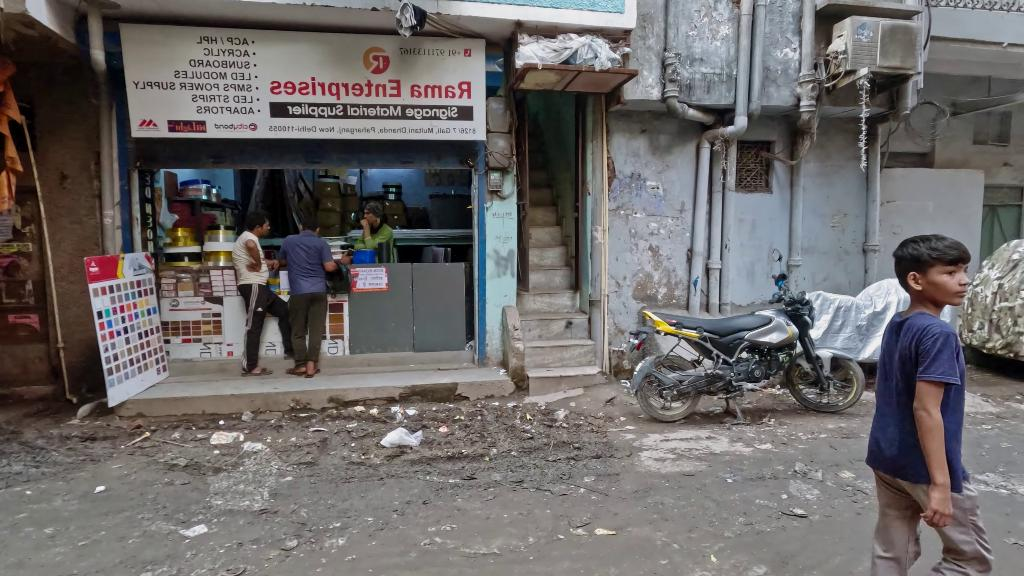garbage: (371, 423, 423, 457), (191, 427, 244, 452), (174, 520, 207, 540)
